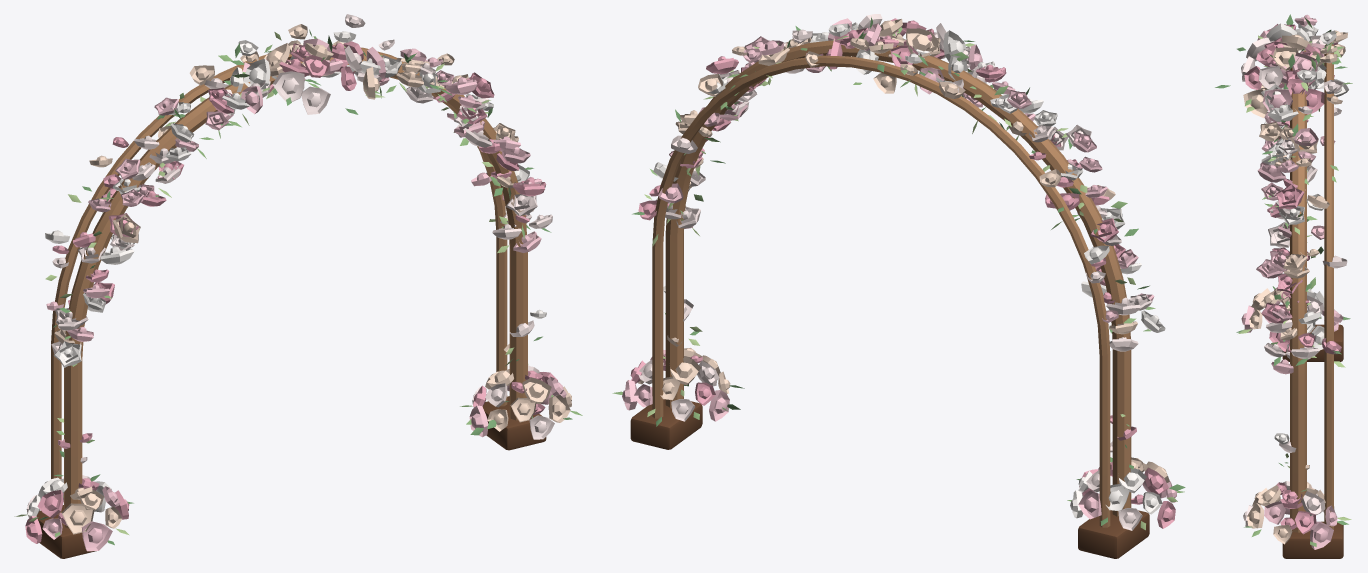
Rendered from flower-arch.glb.
The picture shows the model from 3 angles, left to right: view 1: azimuth 30°, elevation 25°; view 2: azimuth 150°, elevation 25°; view 3: azimuth 270°, elevation 25°; orthographic projection. The views are drawn at different scales.
Visible parts, largest first — view 1: flower-arch; view 2: flower-arch; view 3: flower-arch.
Part boxes in pixels (x1,y1,x2,y2): flower-arch: (14, 14, 582, 558); flower-arch: (612, 14, 1185, 558); flower-arch: (1215, 14, 1352, 558).
Size of the model in its own units: 4.68 by 3.71 by 1.14.
